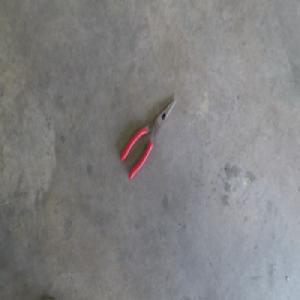Pliers: (119, 99, 177, 181)
